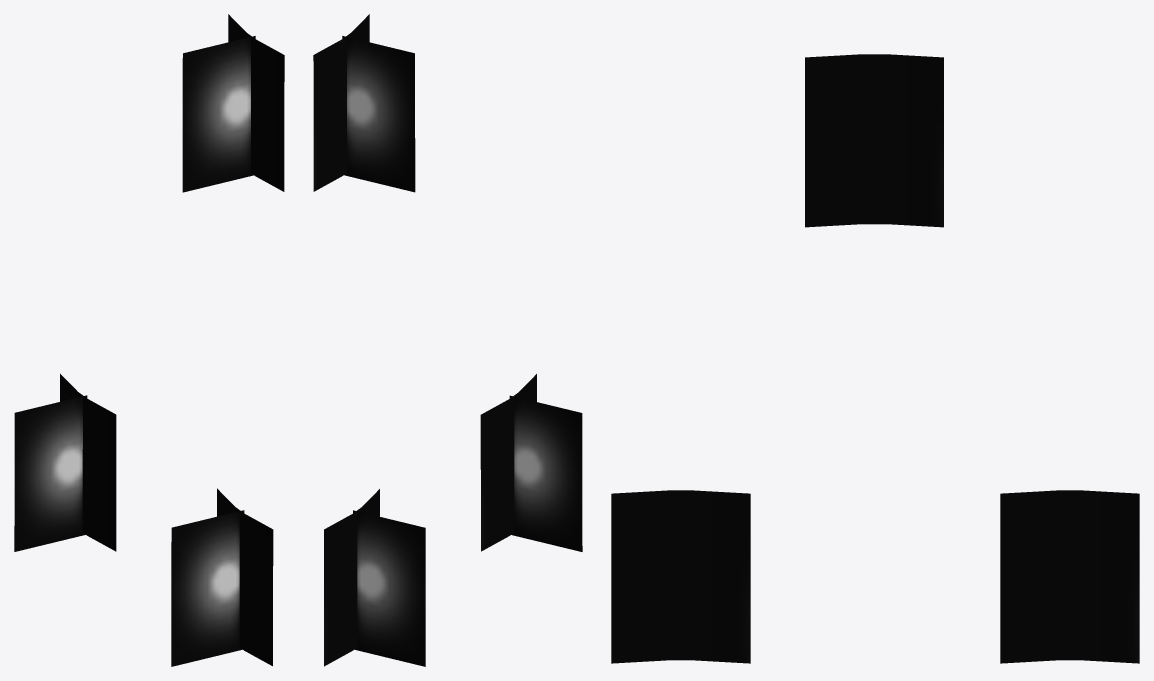
The model's file is slot_machine_blikacka.FBX.
3 views of the same model, side by side, from view 1: azimuth 30°, elevation 25°; view 2: azimuth 150°, elevation 25°; view 3: azimuth 270°, elevation 25° (orthographic). The views are drawn at different scales.
Visible parts, largest first — view 1: blikacka; view 2: blikacka; view 3: blikacka.
Part boxes in pixels (bbox=[...]): blikacka: bbox=[14, 14, 284, 666]; blikacka: bbox=[313, 14, 582, 666]; blikacka: bbox=[611, 54, 1139, 663].
Bounding box in the file's own units: 41.93 × 132 × 94.85.
